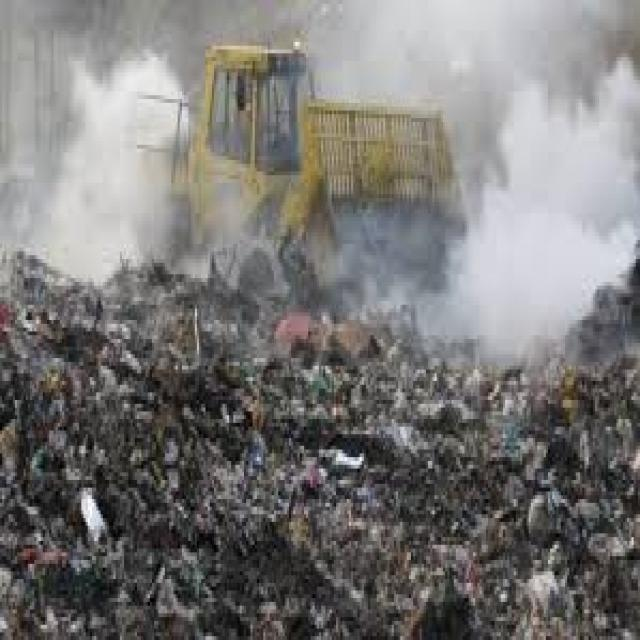Smoke: (409, 57, 640, 335), (19, 47, 182, 276)
